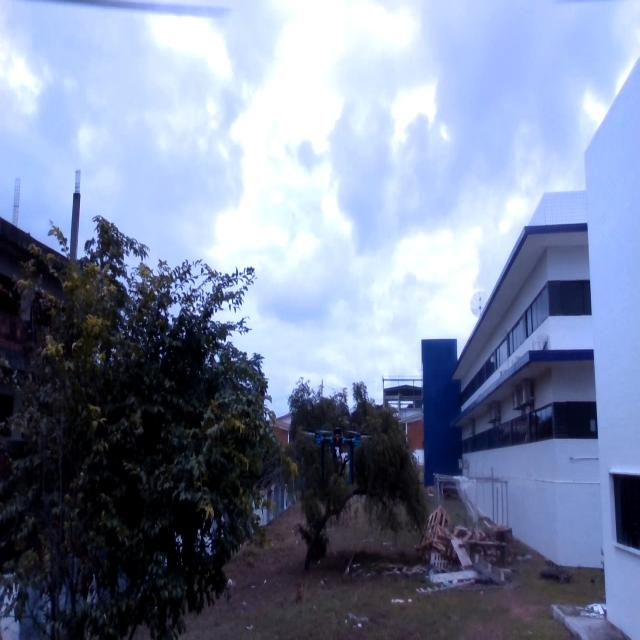-uav-: (301, 418, 378, 493)
